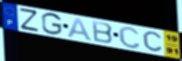A: (66, 16, 94, 42)
B: (91, 20, 114, 45)
C: (118, 26, 142, 50), (142, 31, 164, 53)
G: (41, 12, 63, 36)
Z: (18, 7, 40, 33)
